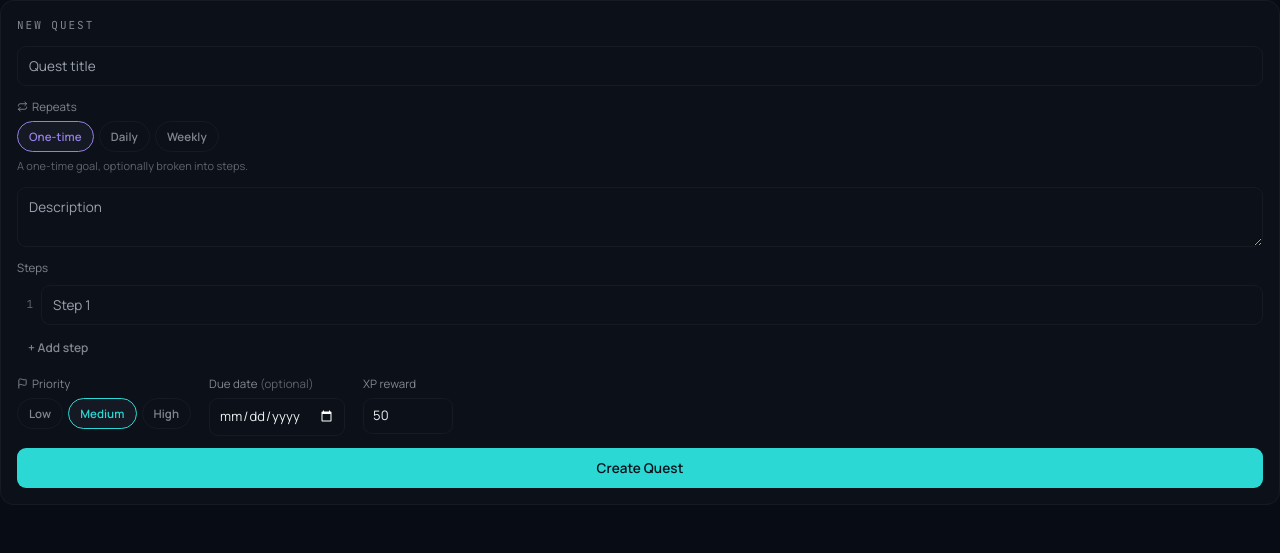
QuestForm › shows validation error when a one-time quest has no steps
Type "My Quest" into the field labelled "Quest title" at (640, 66), box left=17, top=46, right=1263, bottom=86
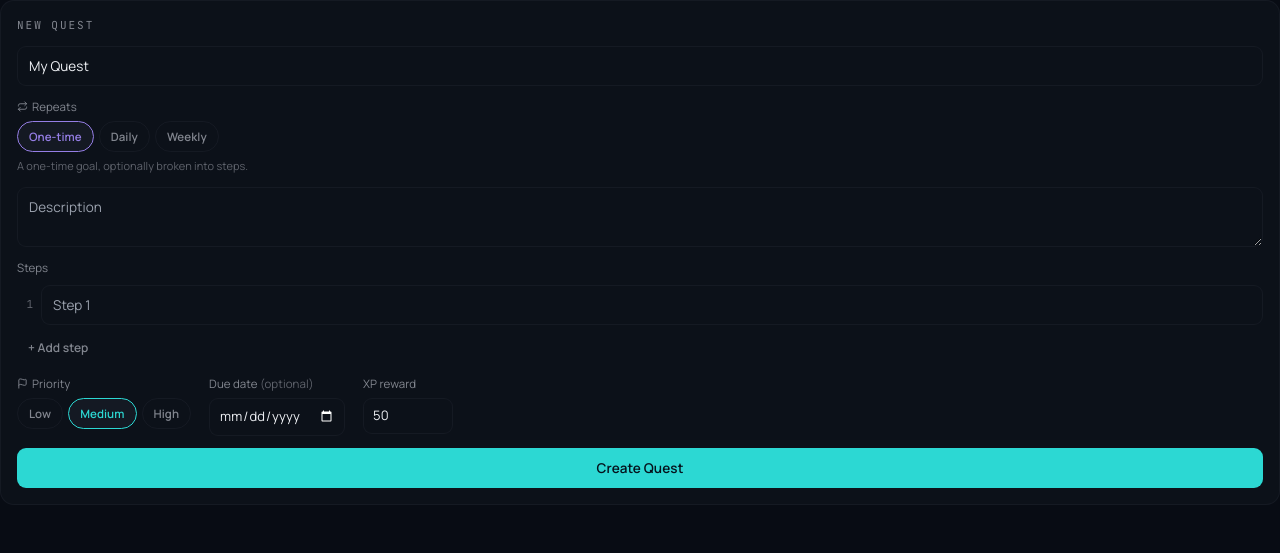
Click the button "Create Quest" at (640, 468), box left=17, top=448, right=1263, bottom=488
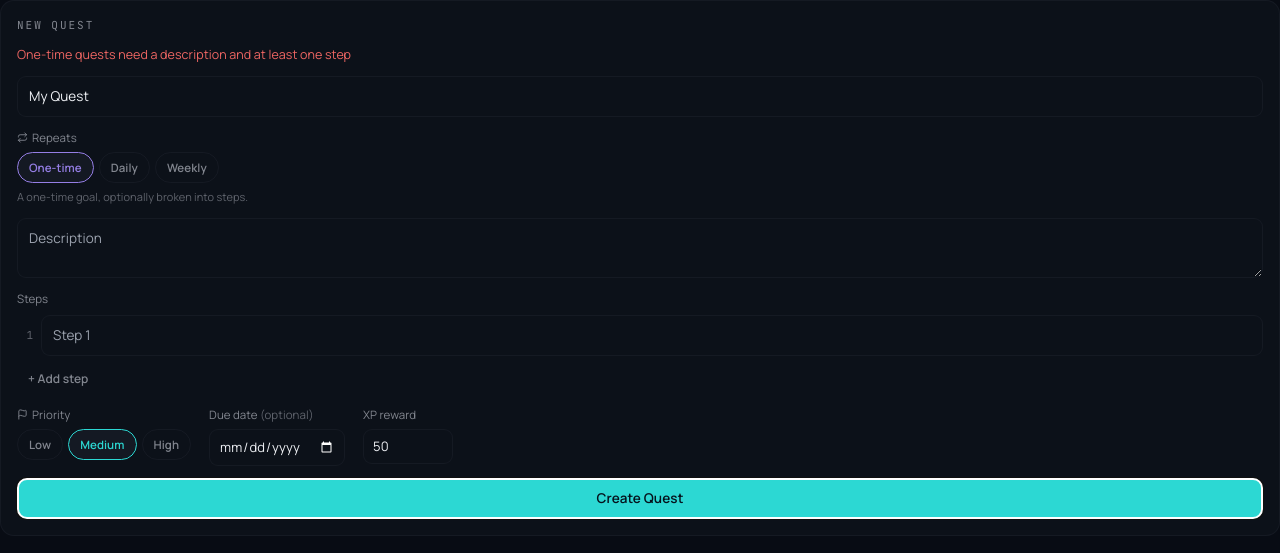
Check: the text "One-time quests need a description and at least one step" is shown, box left=17, top=46, right=351, bottom=62
